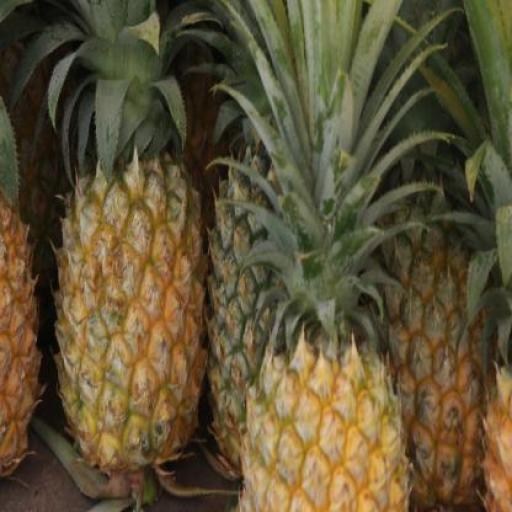------------------------------: (57, 158, 201, 464)
Pineapple - v8 v1: (243, 308, 409, 512)
